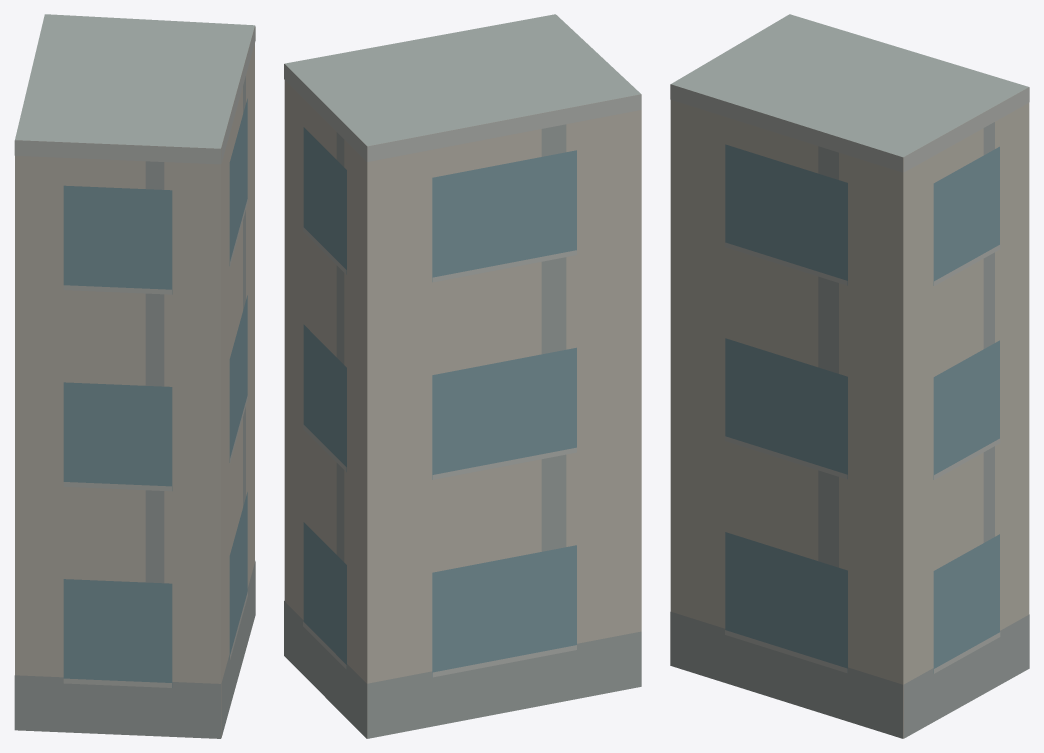
File: survey-upis-32571569.glb
The picture shows the model from 3 angles, left to right: view 1: azimuth 30°, elevation 25°; view 2: azimuth 150°, elevation 25°; view 3: azimuth 270°, elevation 25°; orthographic projection.
Visible parts, largest first — view 1: survey-upis-32571569.tmp; view 2: survey-upis-32571569.tmp; view 3: survey-upis-32571569.tmp.
Part boxes in pixels (x1,y1,x2,y2): survey-upis-32571569.tmp: (14,14,255,738); survey-upis-32571569.tmp: (284,14,641,738); survey-upis-32571569.tmp: (670,14,1029,738).
Bounding box in the file's own units: 4.85 × 9.15 × 5.12.
